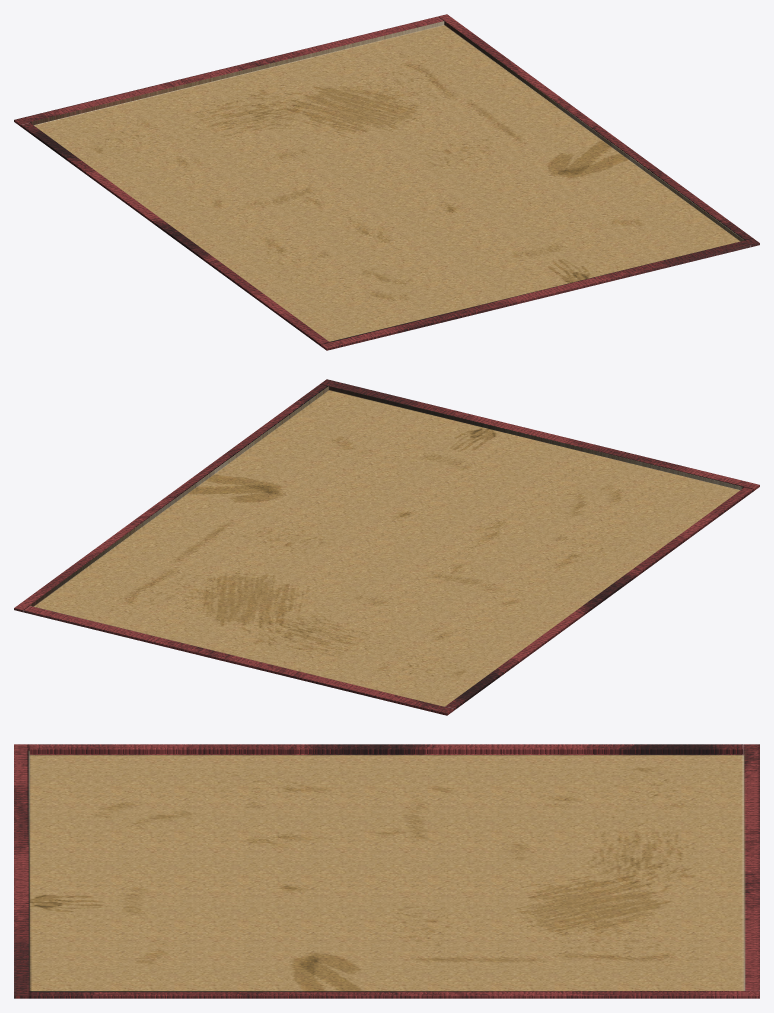
File: playgroundModel.fbx
The picture shows the model from 3 angles, top to bottom: view 1: azimuth 30°, elevation 25°; view 2: azimuth 150°, elevation 25°; view 3: azimuth 270°, elevation 25°; orthographic projection. The views are drawn at different scales.
Parts seen in each view (by area): view 1: playground; view 2: playground; view 3: playground.
Boxes of the visible parts, x1,y1,x2,y2 form: playground: [14, 14, 759, 350]; playground: [14, 379, 759, 715]; playground: [14, 744, 759, 998].
Size of the model in its own units: 41.42 by 0.3355 by 51.81.
1 material, 1 textured.
